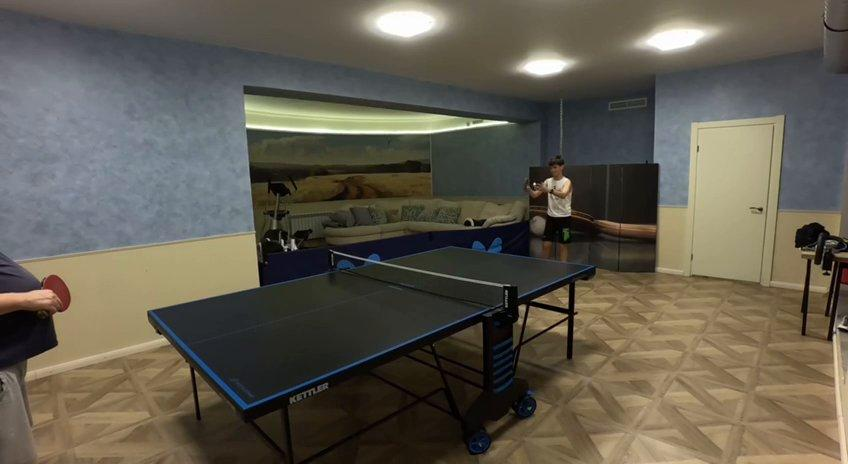Net: (327, 251, 515, 308)
Player1: (537, 156, 572, 260)
Player2: (0, 252, 67, 463)
Table: (149, 247, 594, 409)
